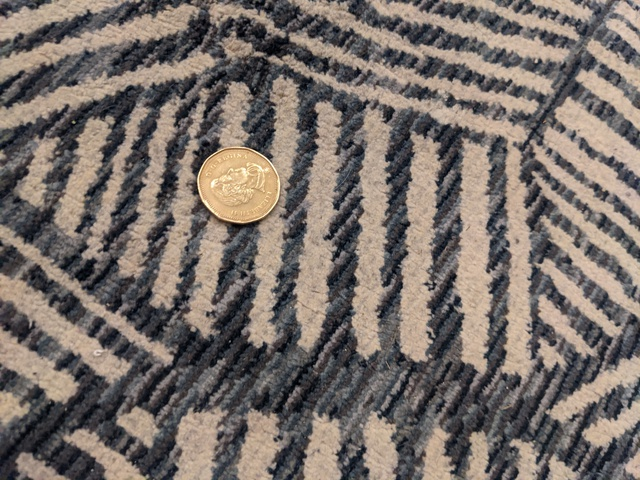loonie: (193, 141, 289, 236)
